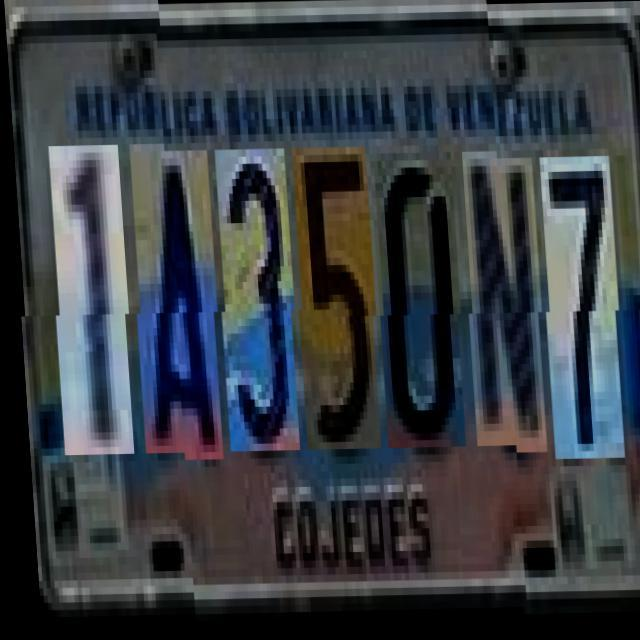0: (371, 154, 463, 450)
1: (46, 152, 132, 462)
3: (212, 150, 298, 453)
5: (290, 148, 378, 452)
7: (537, 151, 622, 454)
A: (127, 151, 220, 461)
N: (460, 152, 544, 448)
